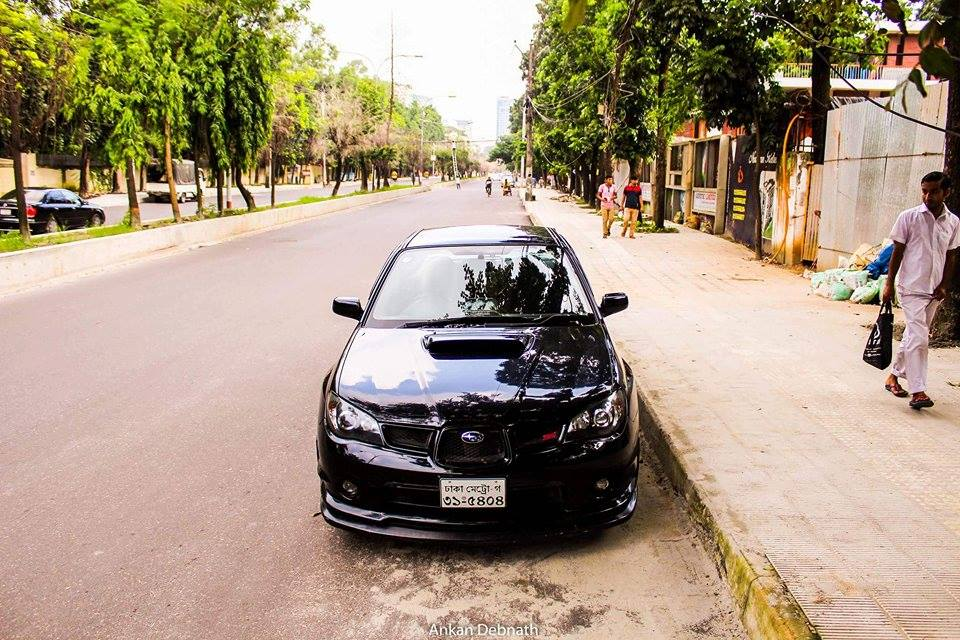registration_plate: (439, 477, 507, 509)
